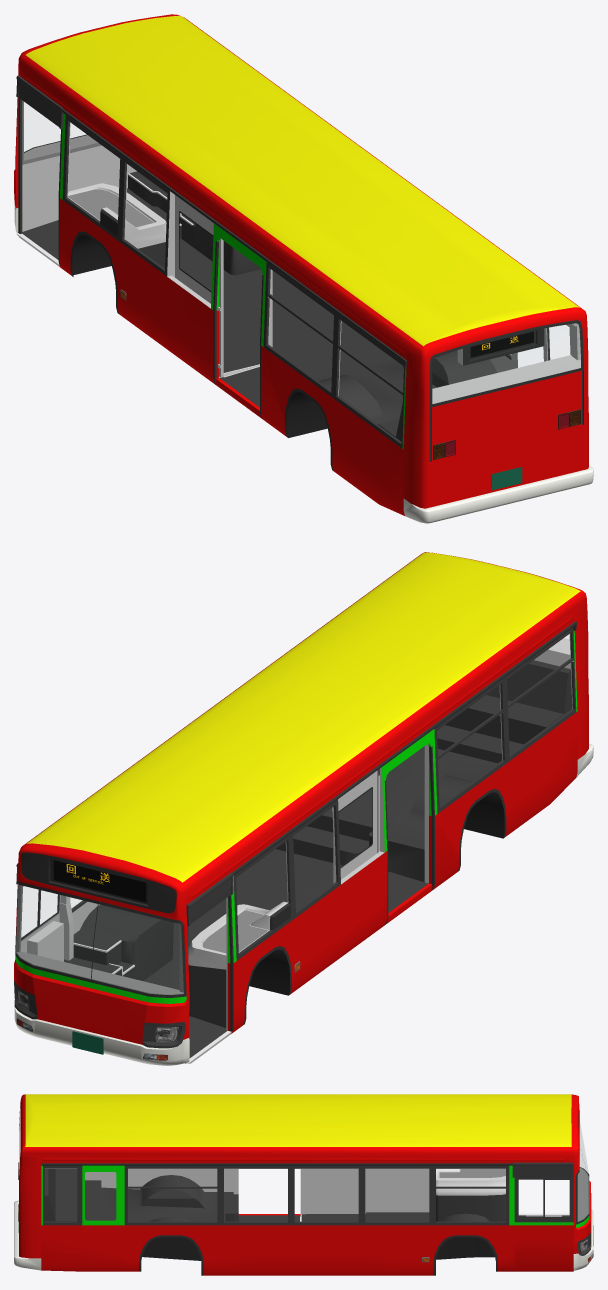
3 views of the same model, one above another, from view 1: azimuth 30°, elevation 25°; view 2: azimuth 150°, elevation 25°; view 3: azimuth 270°, elevation 25° (orthographic). The views are drawn at different scales.
Parts seen in each view (by area): view 1: 正面～屋根～背面L, 正面～屋根～背面R, 側面L-車体, 車内R-床, 車内L-床, 車内L-正面, 床下L, 車内L-側壁, 側面L-窓-後方1, リアバンパーL, 側面L-雨樋, 側面L-窓-後方2 (+9 smaller); view 2: 正面～屋根～背面L, 正面～屋根～背面R, 側面L-車体, 車内L-床, 車内R-床, 車内L-側壁, 床下L, 正面下中央R, 正面下中央L, バンパーL, 側面L-窓-後方1, 側面L-雨樋 (+9 smaller); view 3: 正面～屋根～背面R, 側面R-車体, 正面～屋根～背面L, 車内L-床, 車内L-側壁, 床下R, 車内R-床, 側面R-窓-5, 側面R-非常扉, 側面R-雨樋, 側面R-窓-1, 側面R-窓-4 (+10 smaller).
Boxes of the visible parts, box(x1,y1,x2,y2) form: 正面～屋根～背面L: box(14, 27, 580, 508); 正面～屋根～背面R: box(101, 14, 588, 488); 側面L-車体: box(16, 75, 406, 515); 車内R-床: box(126, 171, 497, 396); 車内L-床: box(22, 183, 402, 441); 車内L-正面: box(22, 100, 102, 231); 床下L: box(72, 234, 327, 437); 車内L-側壁: box(67, 122, 341, 395); 側面L-窓-後方1: box(263, 262, 336, 398); リアバンパーL: box(403, 489, 510, 523); 側面L-雨樋: box(61, 109, 407, 368); 側面L-窓-後方2: box(333, 313, 405, 448); 正面～屋根～背面L: box(91, 566, 588, 1039); 正面～屋根～背面R: box(14, 552, 503, 995); 側面L-車体: box(185, 630, 577, 1063); 車内L-床: box(172, 660, 572, 1057); 車内R-床: box(64, 712, 462, 987); 車内L-側壁: box(226, 633, 572, 1030); 床下L: box(185, 792, 504, 1063); 正面下中央R: box(32, 974, 91, 1025); 正面下中央L: box(90, 988, 148, 1038); バンパーL: box(88, 1026, 189, 1065); 側面L-窓-後方1: box(434, 677, 507, 813); 側面L-雨樋: box(232, 621, 576, 875); 正面～屋根～背面R: box(19, 1115, 591, 1258); 側面R-車体: box(41, 1162, 573, 1275); 正面～屋根～背面L: box(18, 1094, 590, 1221); 車内L-床: box(49, 1169, 569, 1221); 車内L-側壁: box(85, 1169, 429, 1214); 床下R: box(142, 1237, 494, 1260); 車内R-床: box(44, 1169, 489, 1221); 側面R-窓-5: box(124, 1165, 220, 1225); 側面R-非常扉: box(82, 1168, 118, 1246); 側面R-雨樋: box(41, 1163, 512, 1165); 側面R-窓-1: box(432, 1165, 509, 1225); 側面R-窓-4: box(220, 1165, 291, 1225).
Size of the model in its own units: 2.49 by 2.61 by 10.44.
Materials: 41 (23 with a texture image).
